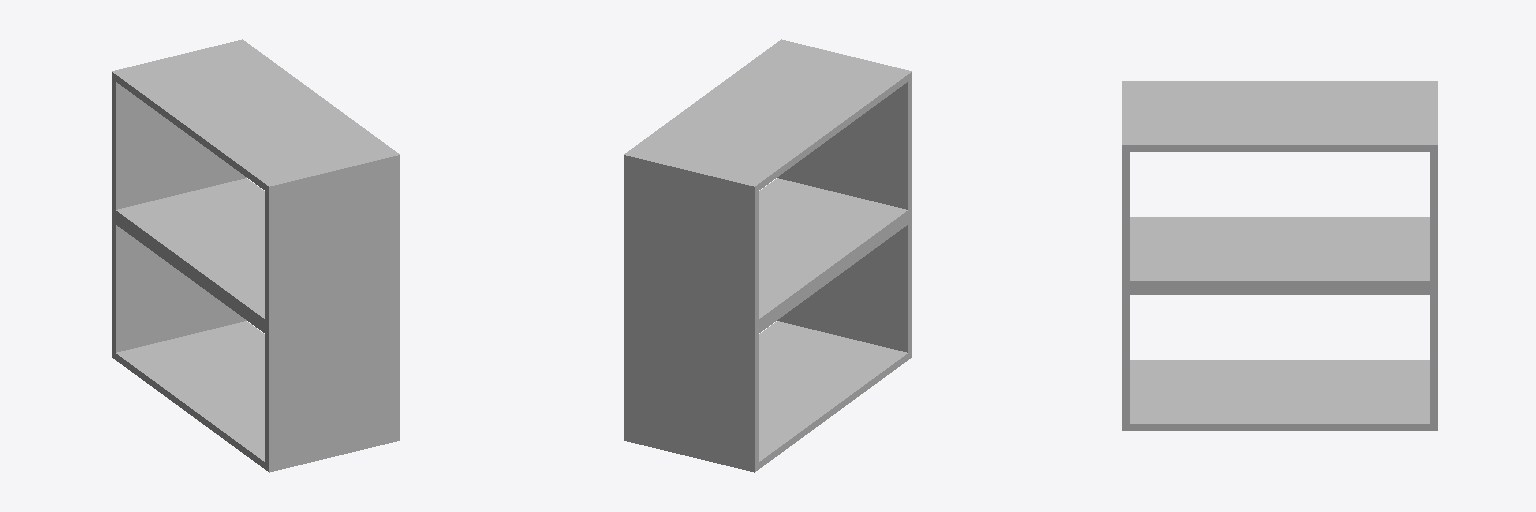
The model's file is not_convex.obj.
3 views of the same model, side by side, from view 1: azimuth 30°, elevation 25°; view 2: azimuth 150°, elevation 25°; view 3: azimuth 270°, elevation 25° (orthographic).
Size of the model in its own units: 0.366 by 0.762 by 0.762.